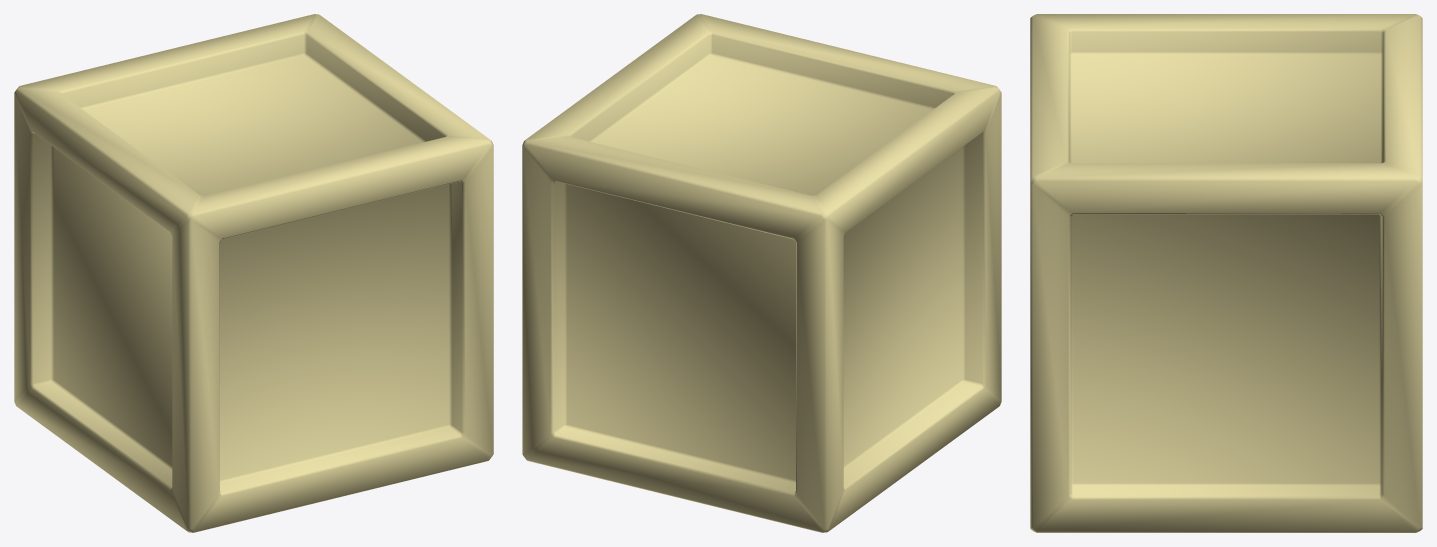
Rendered from Crate.fbx.
The picture shows the model from 3 angles, left to right: view 1: azimuth 30°, elevation 25°; view 2: azimuth 150°, elevation 25°; view 3: azimuth 270°, elevation 25°; orthographic projection. The views are drawn at different scales.
Parts seen in each view (by area): view 1: Crate; view 2: Crate; view 3: Crate.
Part boxes in pixels (left/top/right/bottom): Crate: left=14, top=14, right=493, bottom=532; Crate: left=522, top=14, right=1001, bottom=532; Crate: left=1030, top=14, right=1422, bottom=532.
Bounding box in the file's own units: 1 × 1 × 1.
